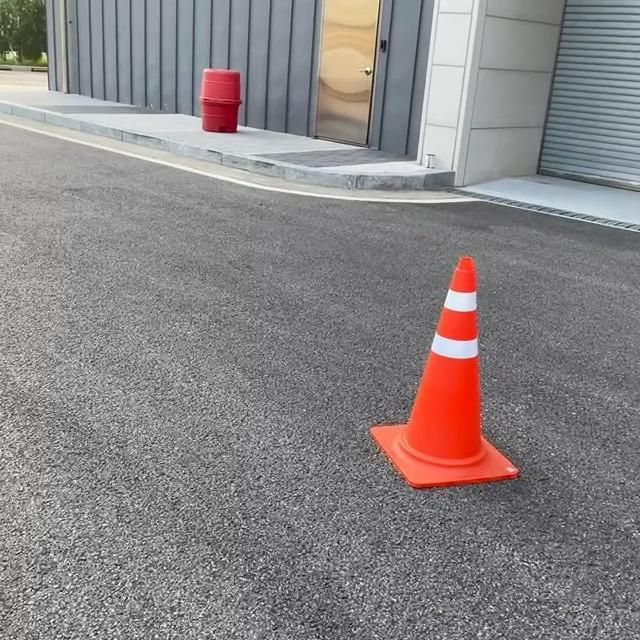fallen_object: (342, 233, 544, 521)
